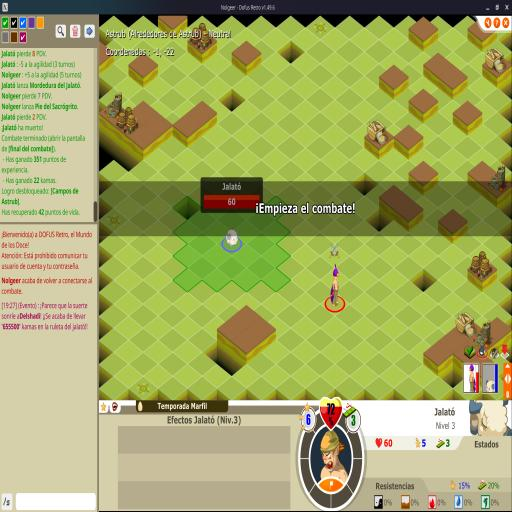Enemigos: (225, 229, 238, 248)
Personaje: (330, 262, 339, 308)
